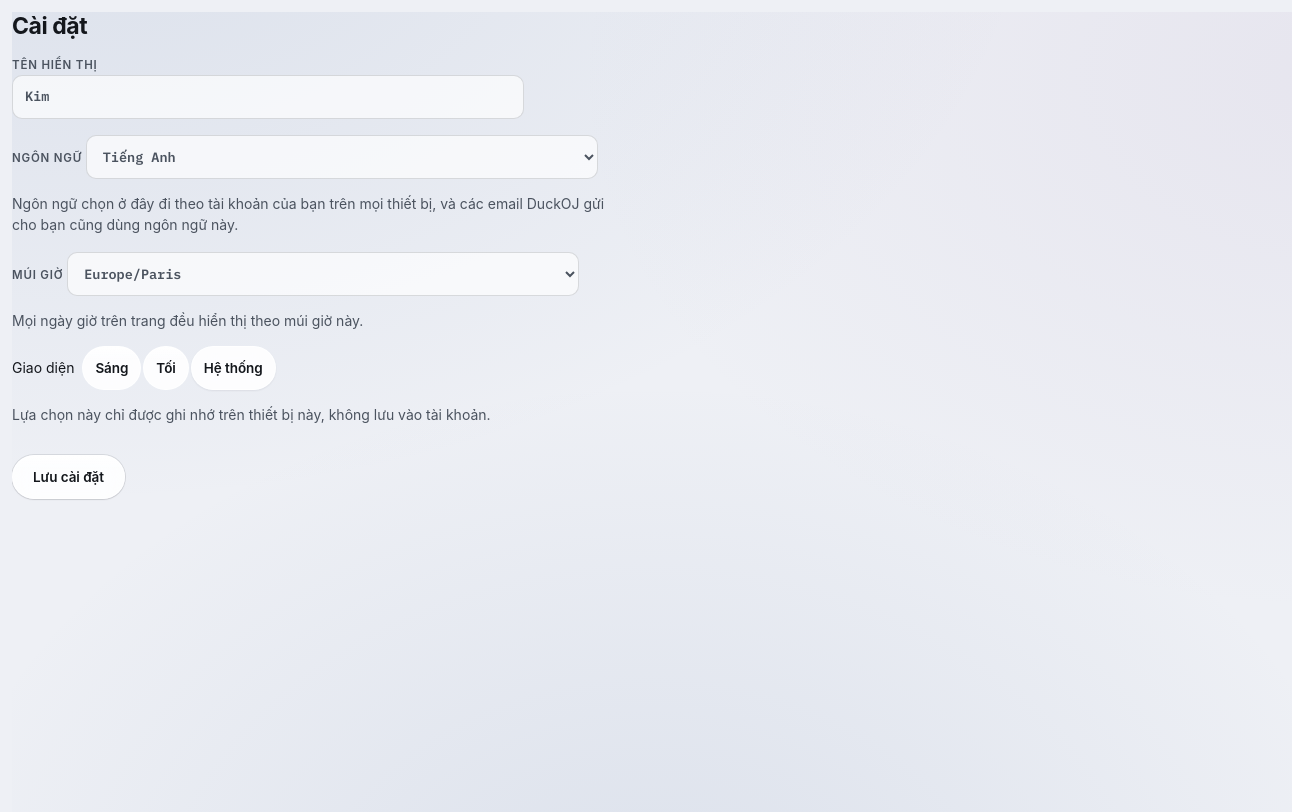
Scenario: SettingsPage › sends a chosen locale and zone, and null for "follow my browser"
Expected: the dropdown labelled "Ngôn ngữ" shows "Tiếng Anh", [86,135,598,179]
Select "Theo trình duyệt" in the dropdown labelled "Múi giờ". click: coordinates (323, 274)
box: [67,252,579,296]
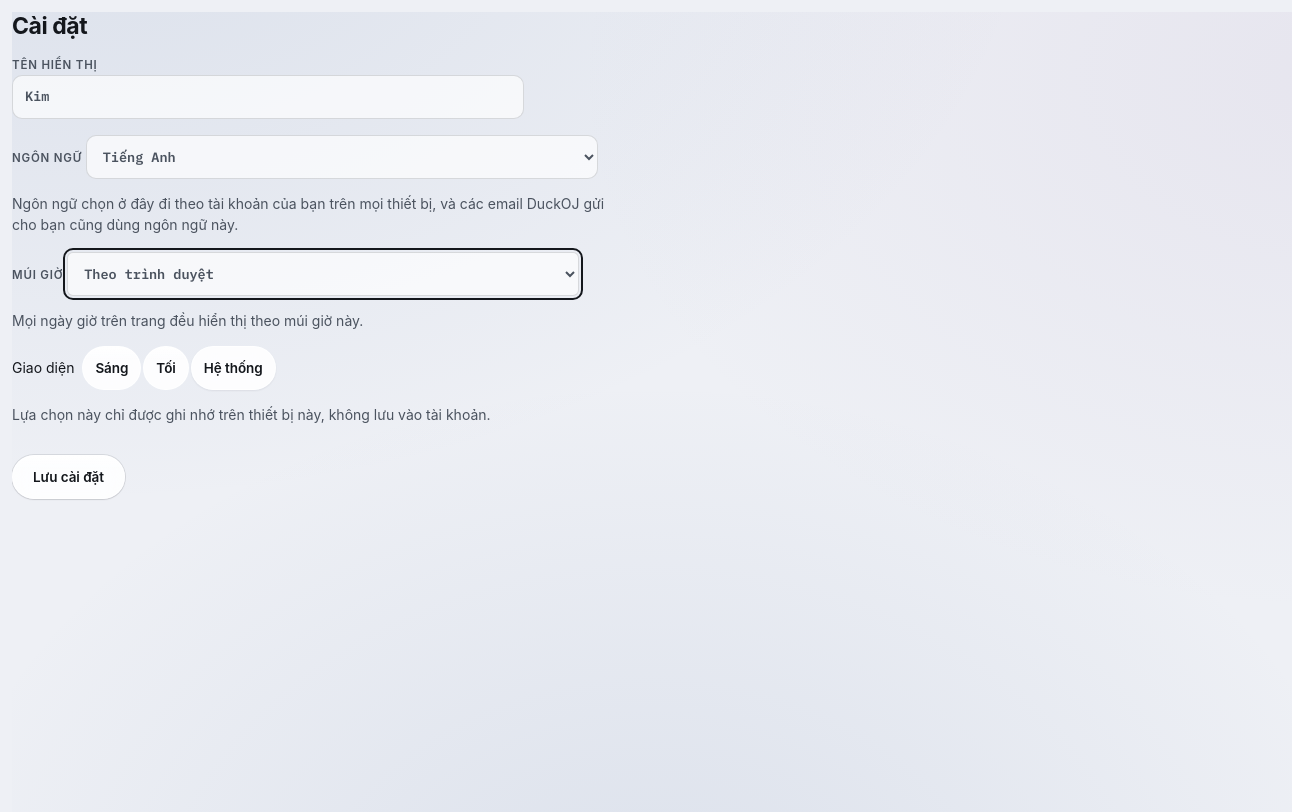
Click the button "Lưu cài đặt". click: coordinates (68, 477)
box: [12,455,125,499]
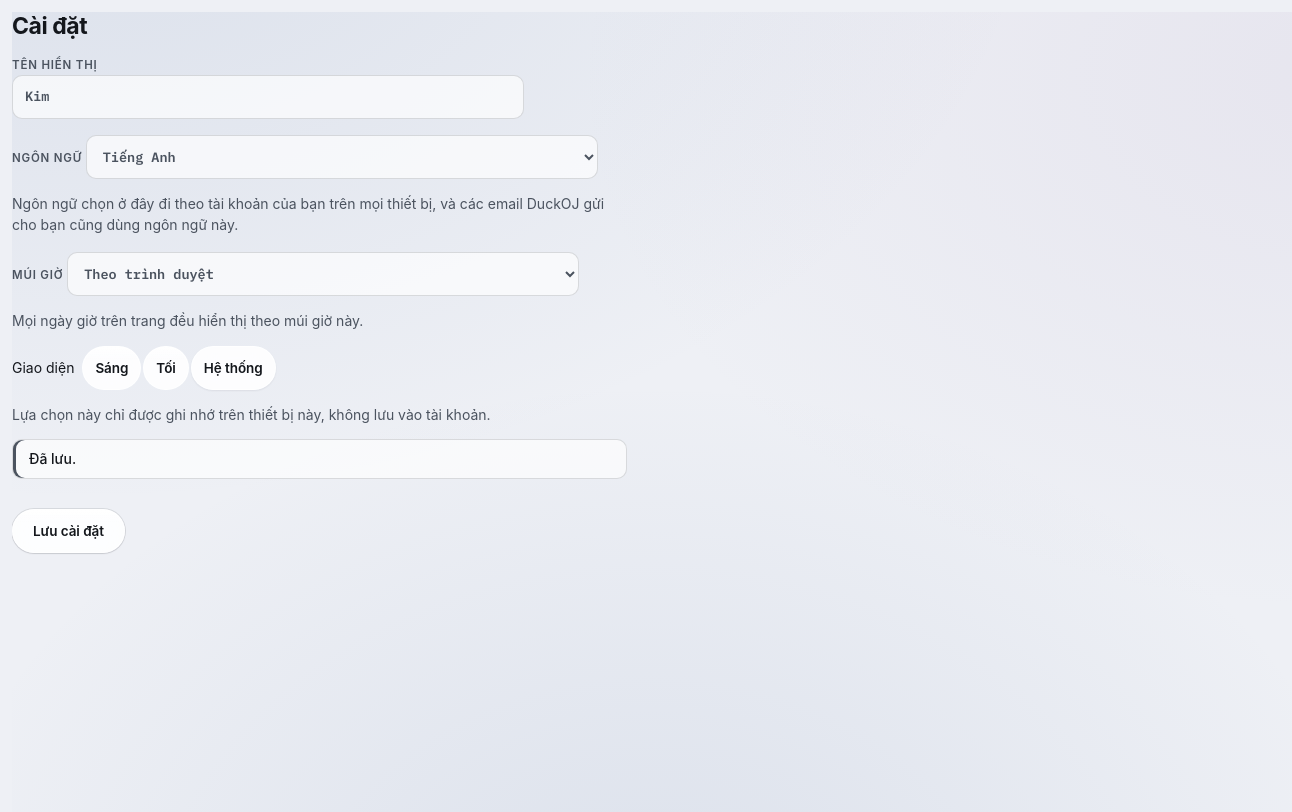
Now the message shows "Đã lưu", box [29,450,76,467]
